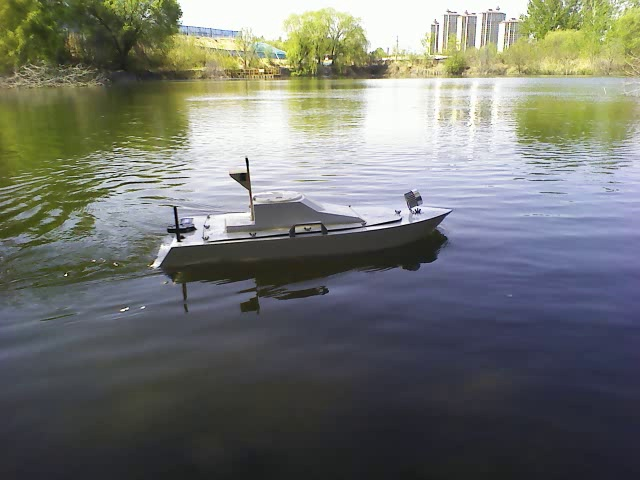boat: (149, 174, 454, 275)
